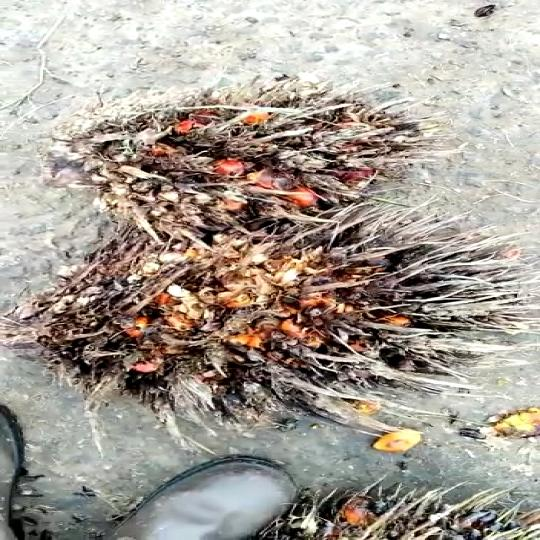terlalu masak: (29, 221, 533, 421), (71, 97, 422, 230)
